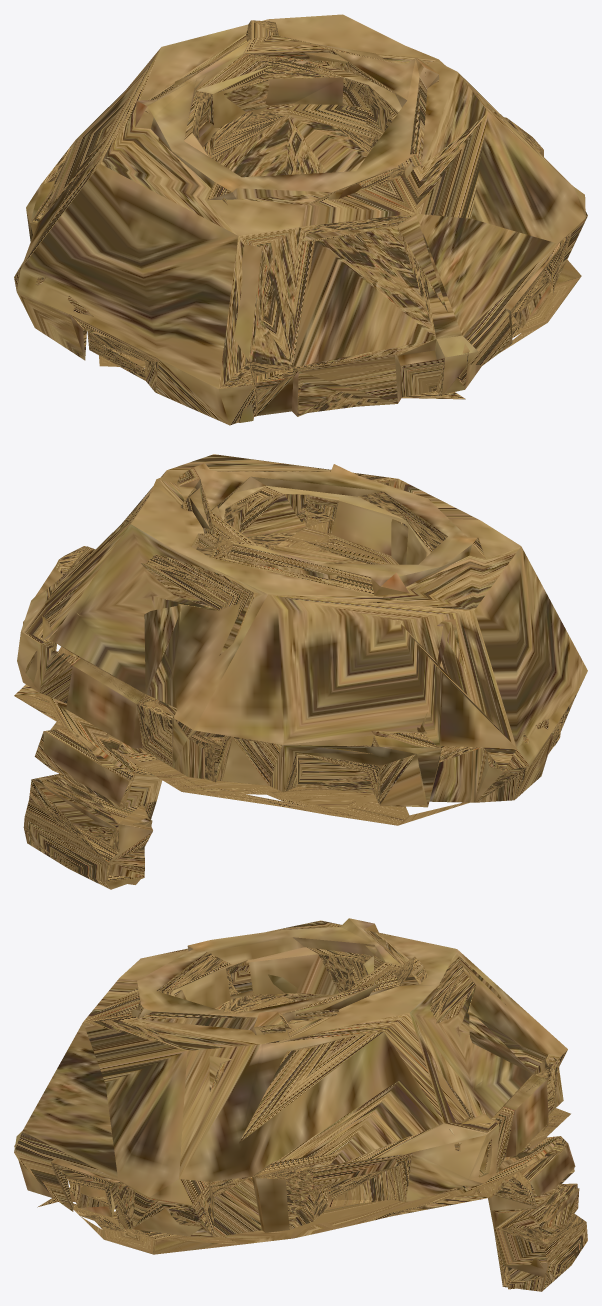
The picture shows the model from 3 angles, top to bottom: view 1: azimuth 30°, elevation 25°; view 2: azimuth 150°, elevation 25°; view 3: azimuth 270°, elevation 25°; orthographic projection. The views are drawn at different scales.
Size of the model in its own units: 0.8457 by 0.486 by 0.8763.
Materials: 1 (1 with a texture image).
